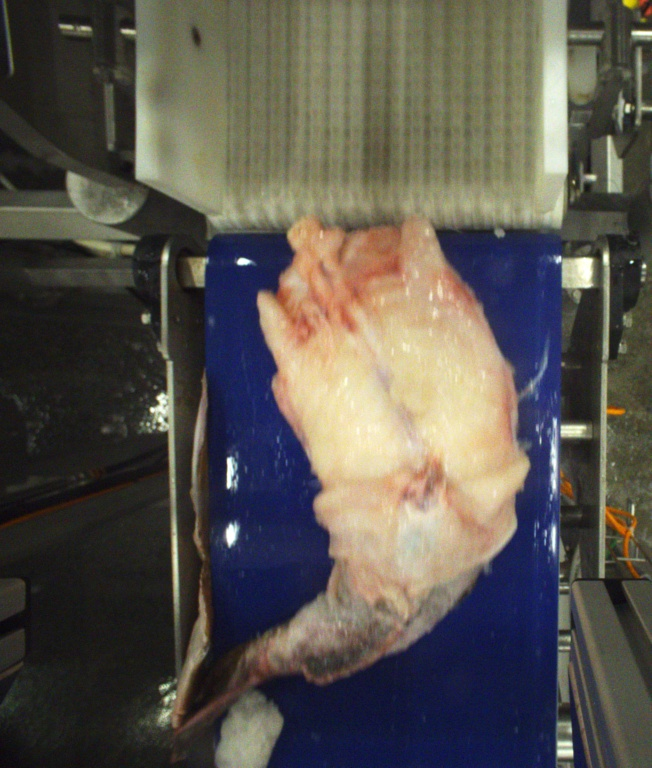ANF: (164, 214, 529, 755)
